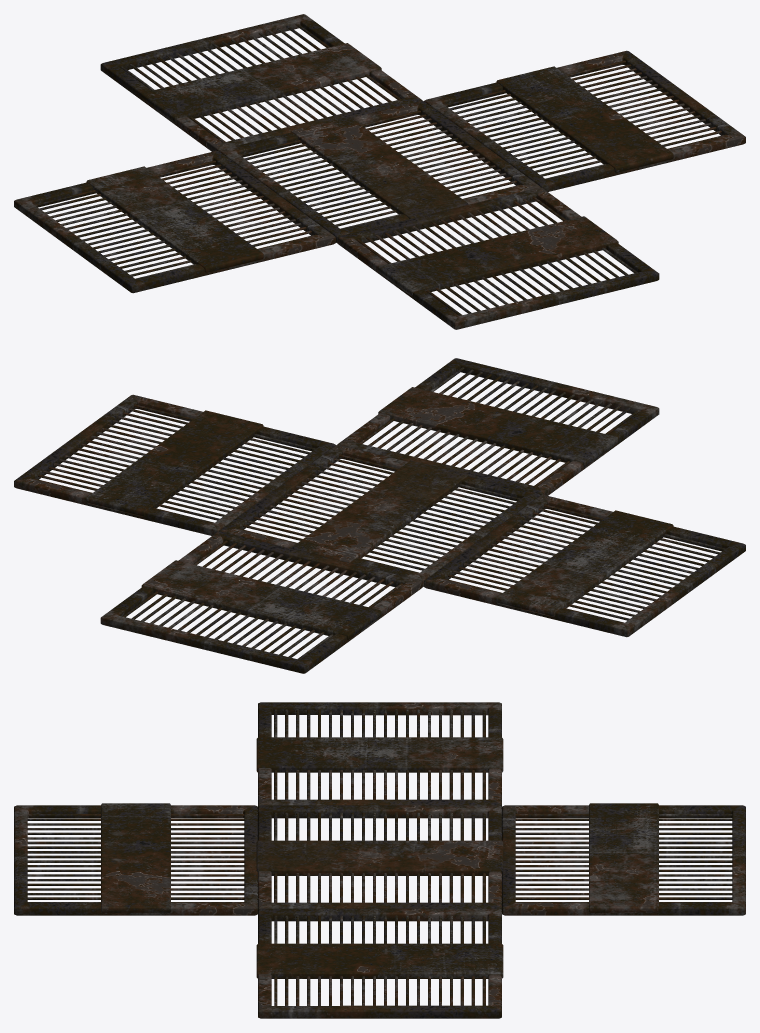
File: Basement_Corridor_A_Floor_Vent_Grill_Junction.glb
The picture shows the model from 3 angles, top to bottom: view 1: azimuth 30°, elevation 25°; view 2: azimuth 150°, elevation 25°; view 3: azimuth 270°, elevation 25°; orthographic projection. The views are drawn at different scales.
Parts seen in each view (by area): view 1: Basement_Corridor_A_Floor_Vent_Grill_Junction; view 2: Basement_Corridor_A_Floor_Vent_Grill_Junction; view 3: Basement_Corridor_A_Floor_Vent_Grill_Junction.
Boxes of the visible parts, left/top/right/bottom form: Basement_Corridor_A_Floor_Vent_Grill_Junction: left=14, top=14, right=745, bottom=329; Basement_Corridor_A_Floor_Vent_Grill_Junction: left=14, top=358, right=745, bottom=673; Basement_Corridor_A_Floor_Vent_Grill_Junction: left=14, top=702, right=745, bottom=1018.
Size of the model in its own units: 4 by 0.0585 by 4.
1 material, 1 textured.
